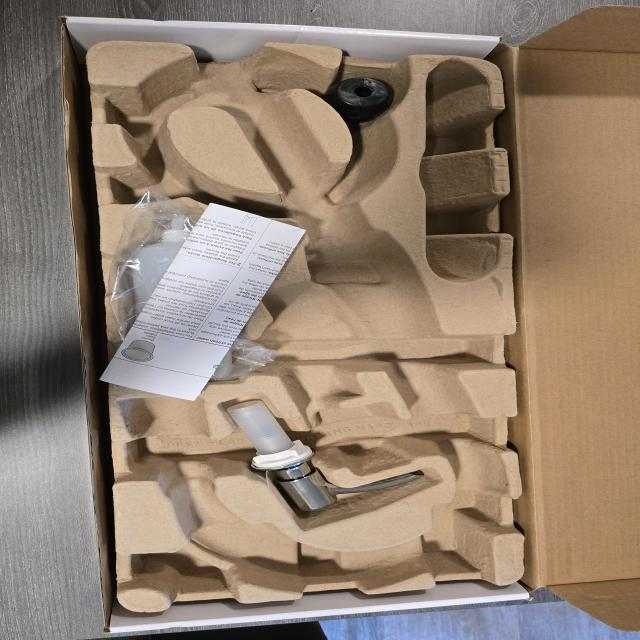1m: (114, 44, 507, 594)
2: (226, 398, 421, 515)
3o: (122, 209, 236, 388)
4m: (419, 60, 501, 283)
5: (325, 76, 394, 125)
6m: (98, 75, 201, 149)
7m: (112, 150, 230, 209)
8: (100, 203, 308, 401)
